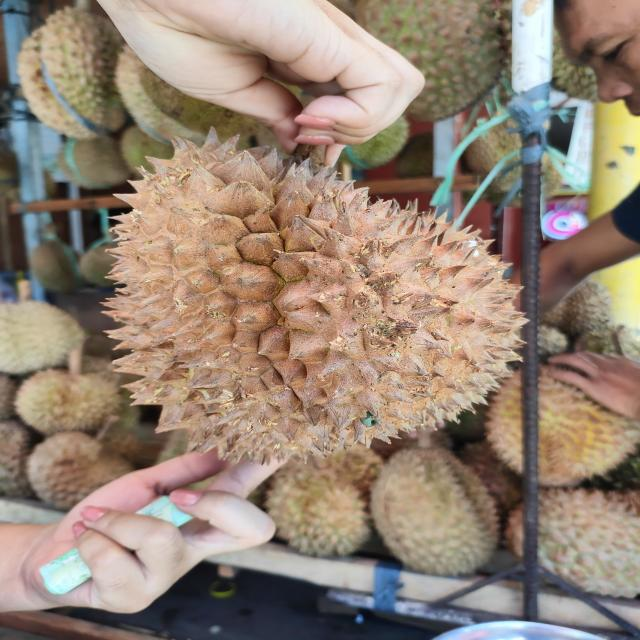mature: (98, 126, 534, 462)
